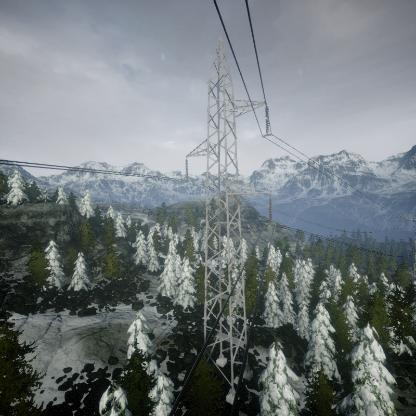tower: (184, 36, 276, 400)
